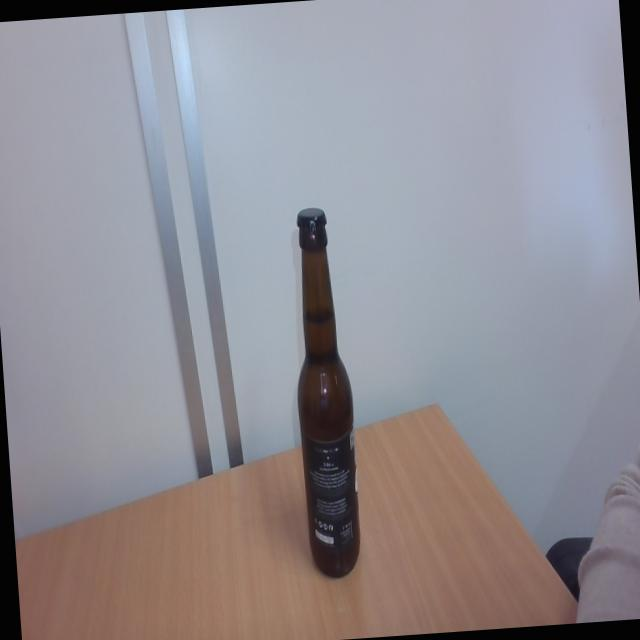Bottle: (287, 235, 365, 582)
Cap: (293, 202, 331, 235)
Label: (301, 432, 362, 549)
